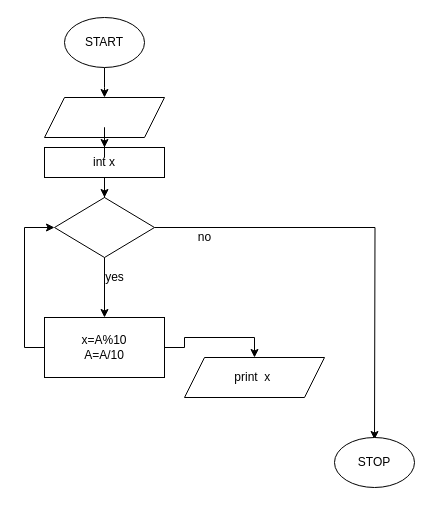
Image size: 432x505. Some labels were removed from this diagram. The centre of each missing label's shape, as x and y in pixels:
"if(A>0)" belongs at (x=104, y=227).
"read A" belongs at (x=104, y=117).
